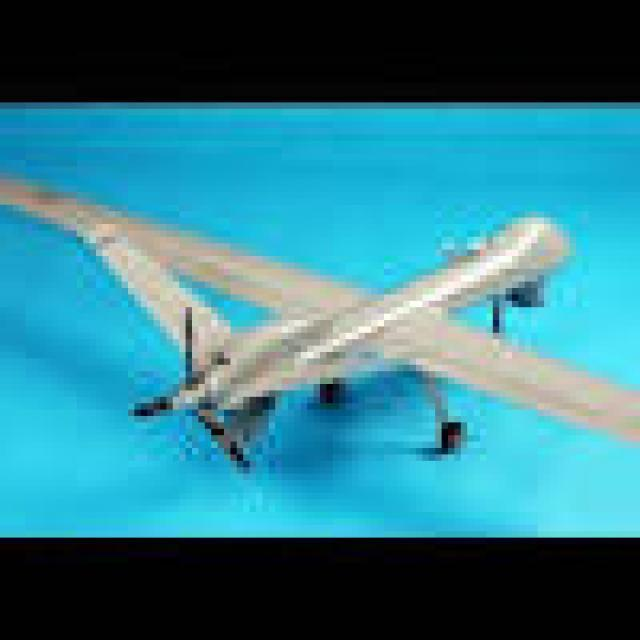UAV: (151, 188, 581, 440)
